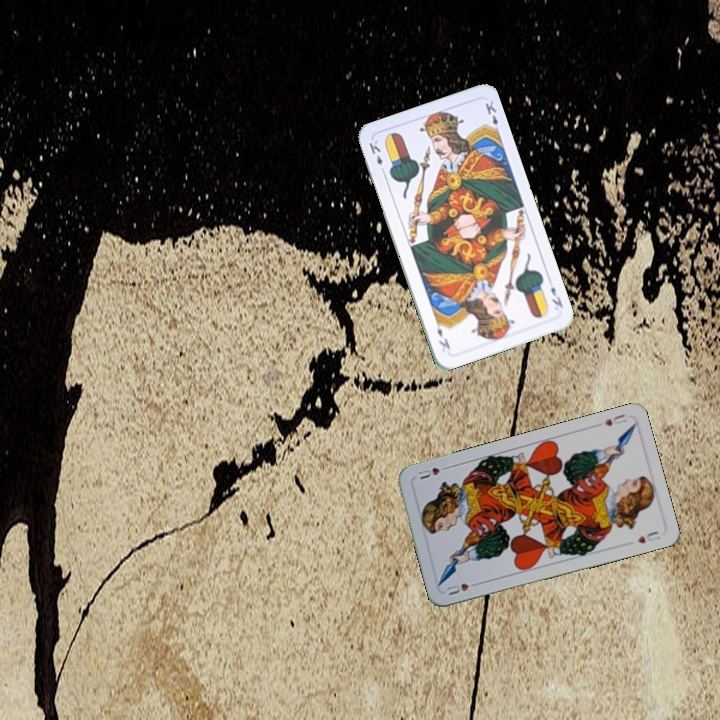EK: (365, 136, 388, 176), (546, 275, 566, 310)
HU: (442, 578, 481, 598), (600, 410, 629, 429)
